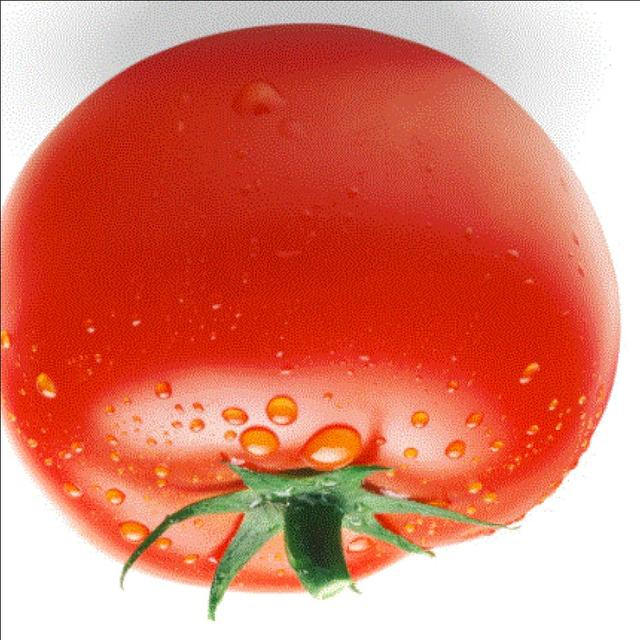Healthy Fruit: (1, 13, 427, 395)
